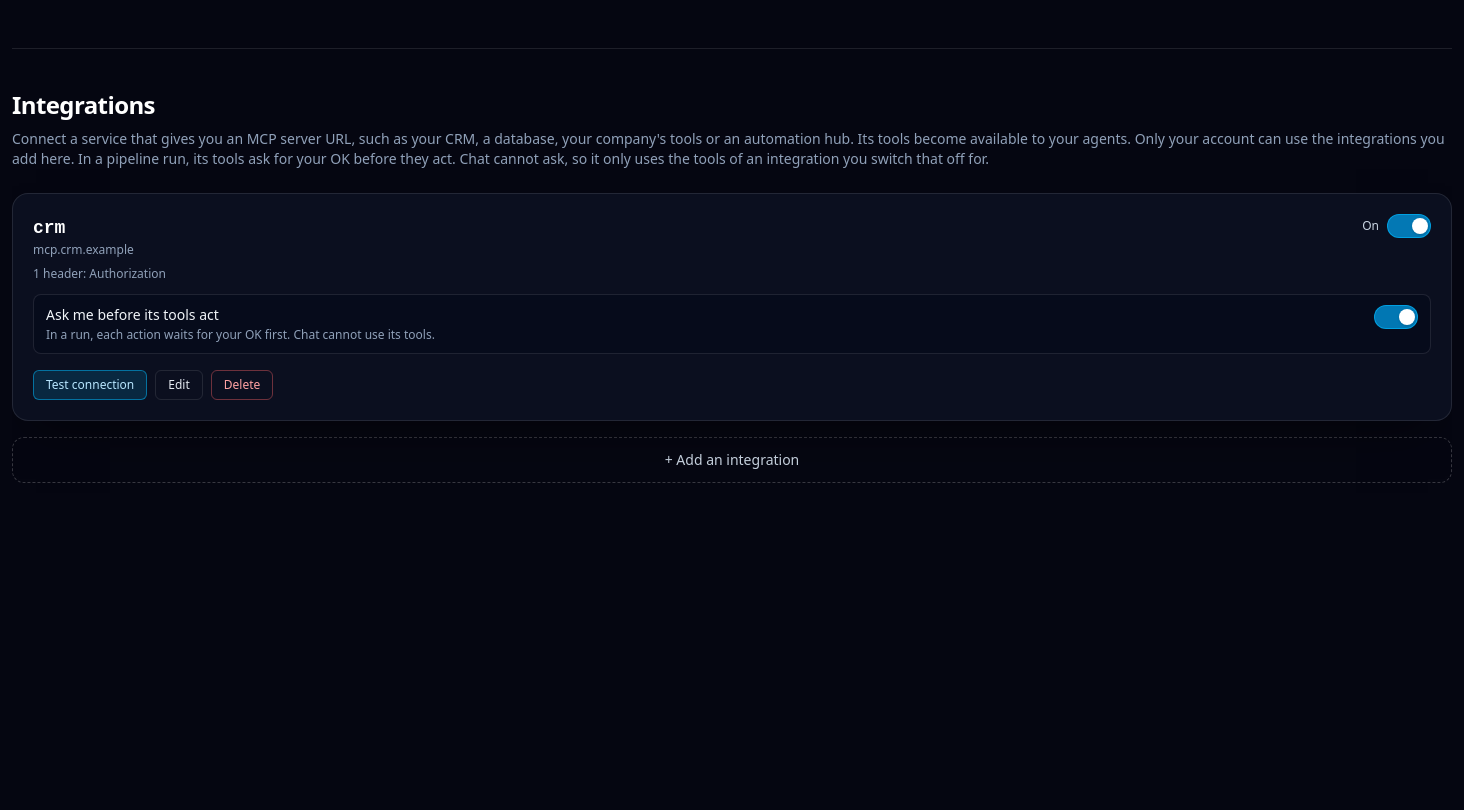
Test: IntegrationsSection › asks before deleting, and keeps the integration on "Keep it"
The width and height of the screenshot is (1464, 810).
What coordinates should you click on to do the following:
click the button "Delete"
I would click on:
 (242, 385)
Its box is [211, 370, 273, 400].
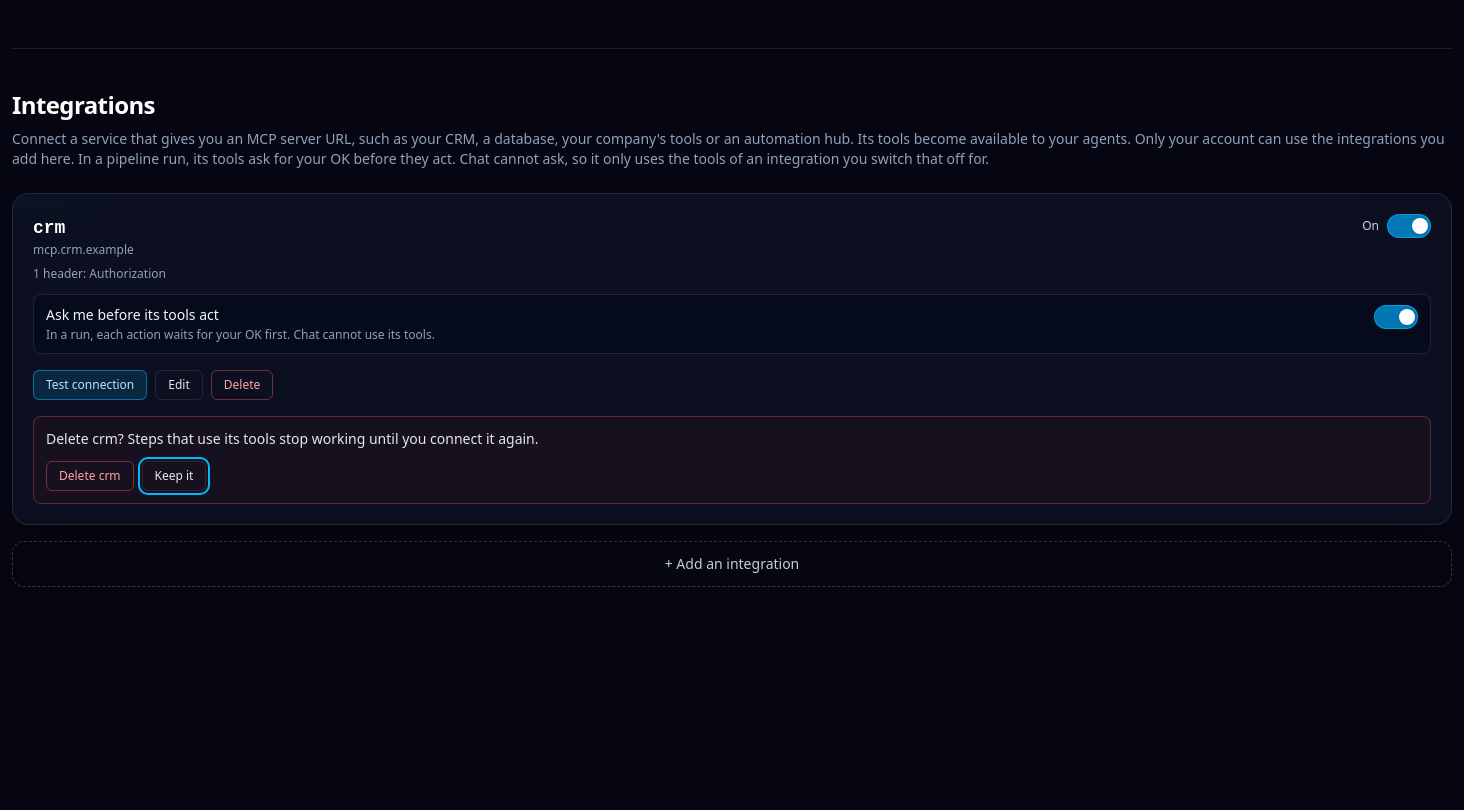
What coordinates should you click on to do the following:
click the button "Keep it"
I would click on:
 (174, 476)
Its box is [142, 461, 206, 491].
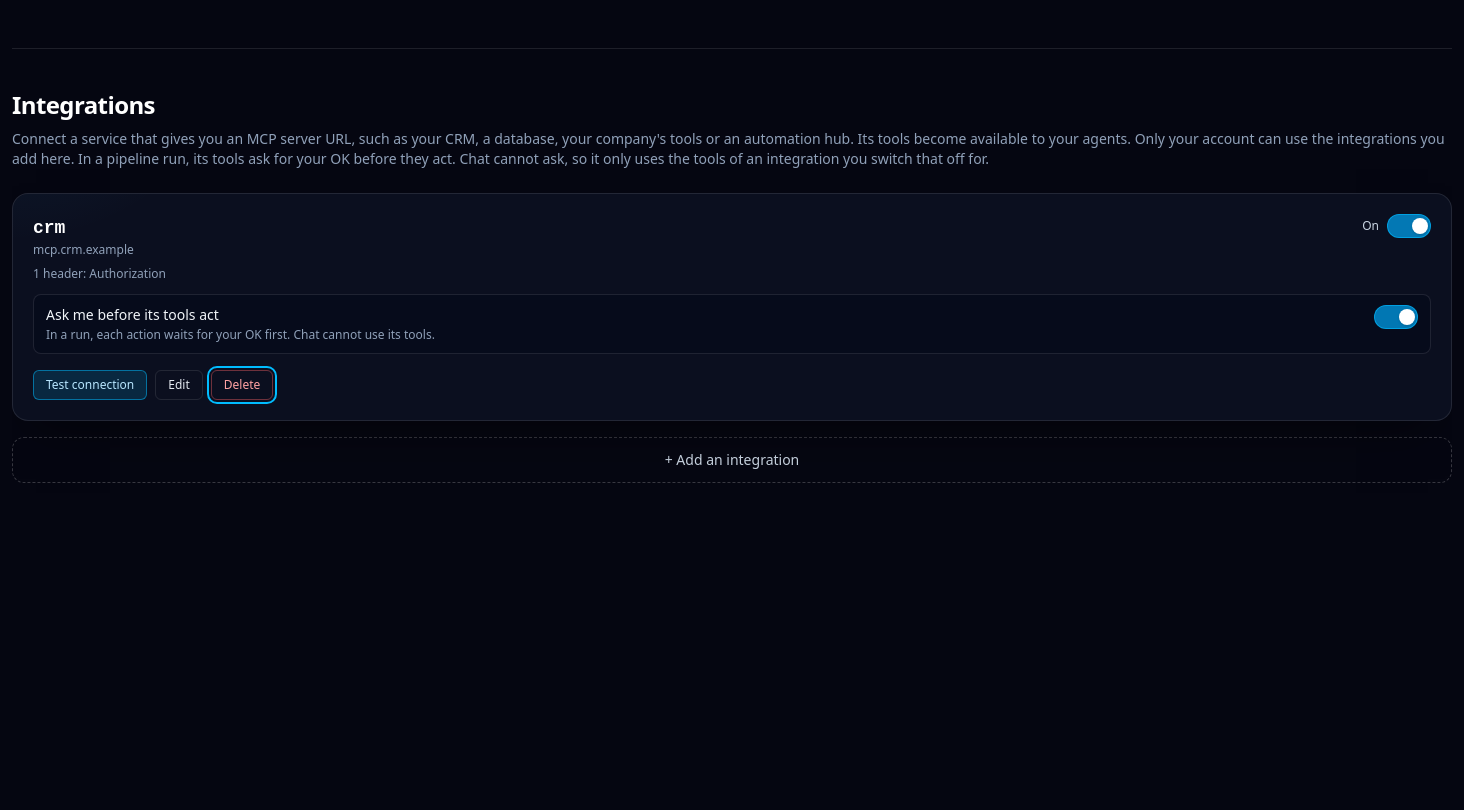
expect the text "Delete crm?" is gone: met
What coordinates should you click on to do the following:
click the button "Delete"
I would click on:
 (242, 385)
Its box is [211, 370, 273, 400].
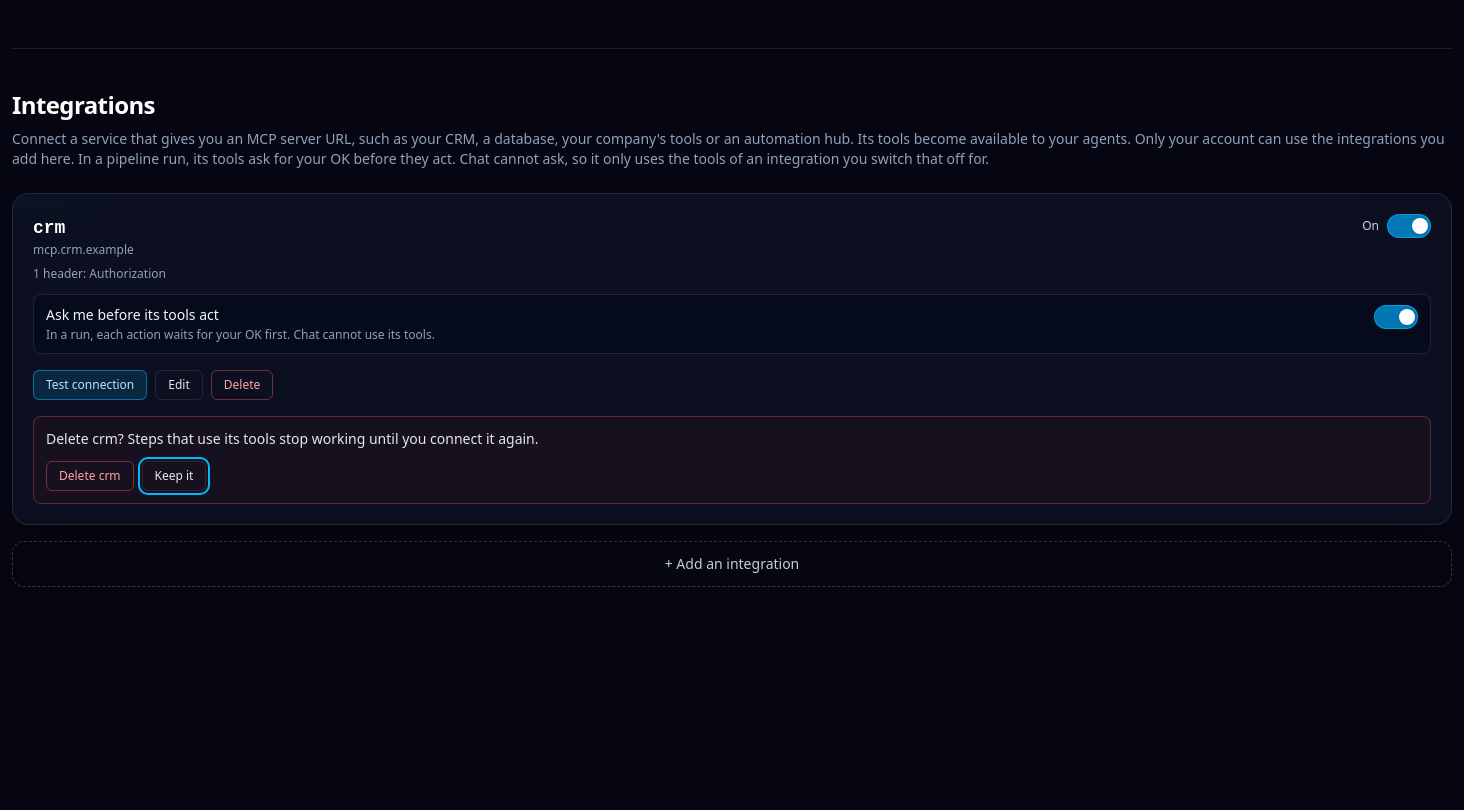
What coordinates should you click on to do the following:
click the button "Delete crm"
I would click on:
 (90, 476)
Its box is [46, 461, 134, 491].
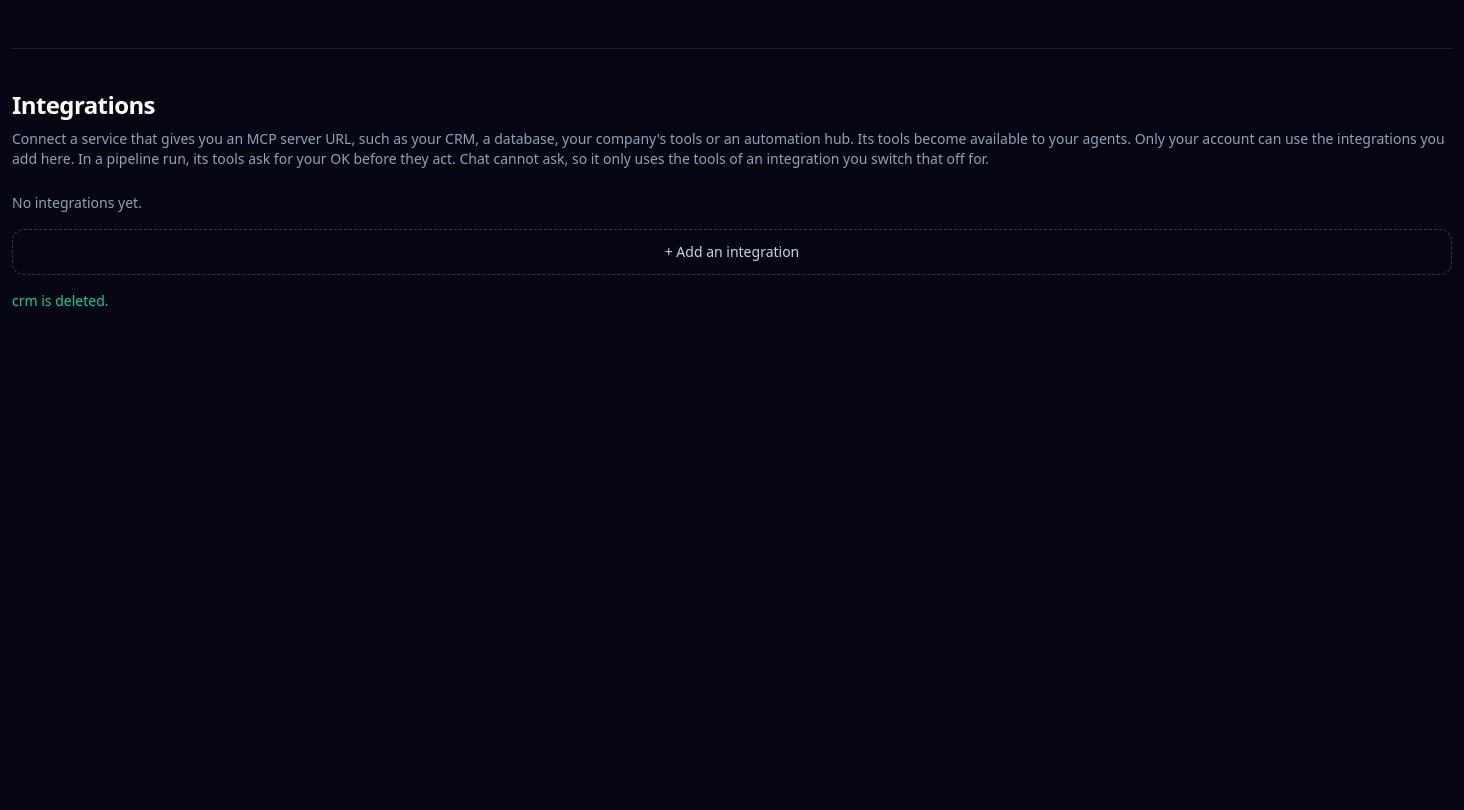
expect the text "No integrations yet." is shown: met, box [12, 193, 142, 212]
